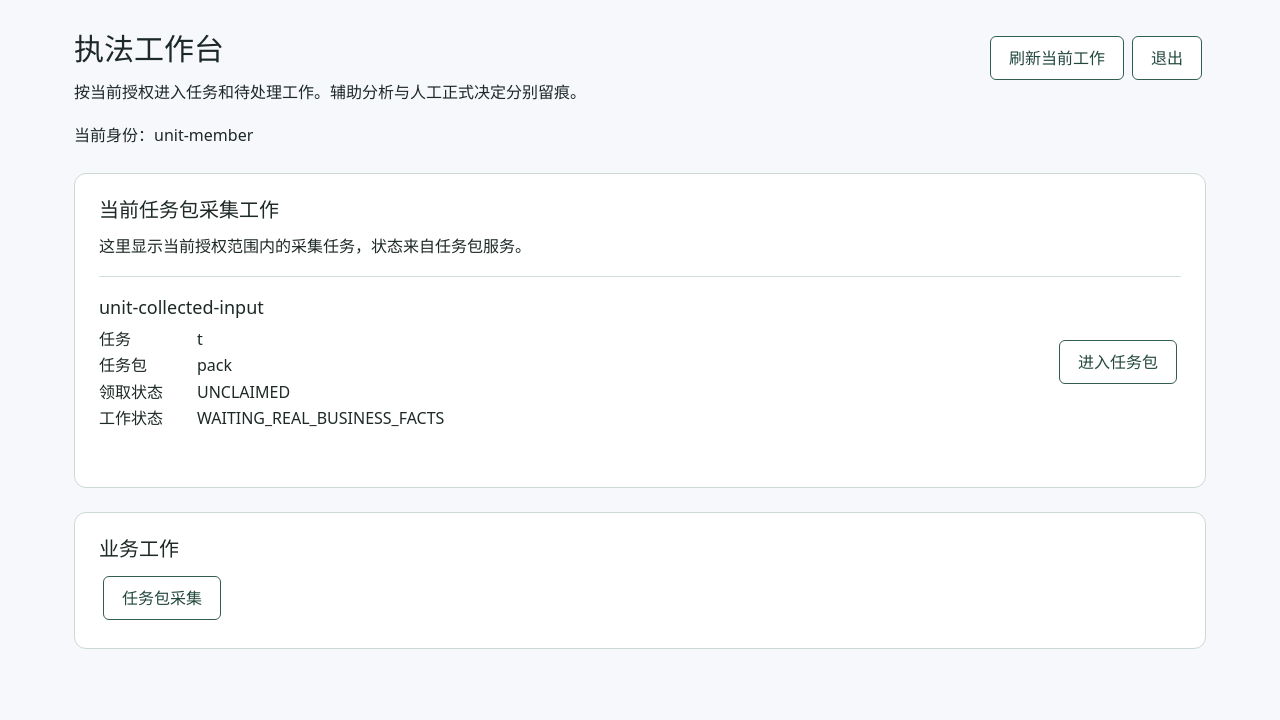
Test: revoked grants after initial display prevent navigation
This screenshot has width=1280, height=720.
Expected: the heading "unit-collected-input" is shown, [99,295,264,319]
Click the button "进入任务包".
click(1118, 362)  # box [1059,340,1177,384]
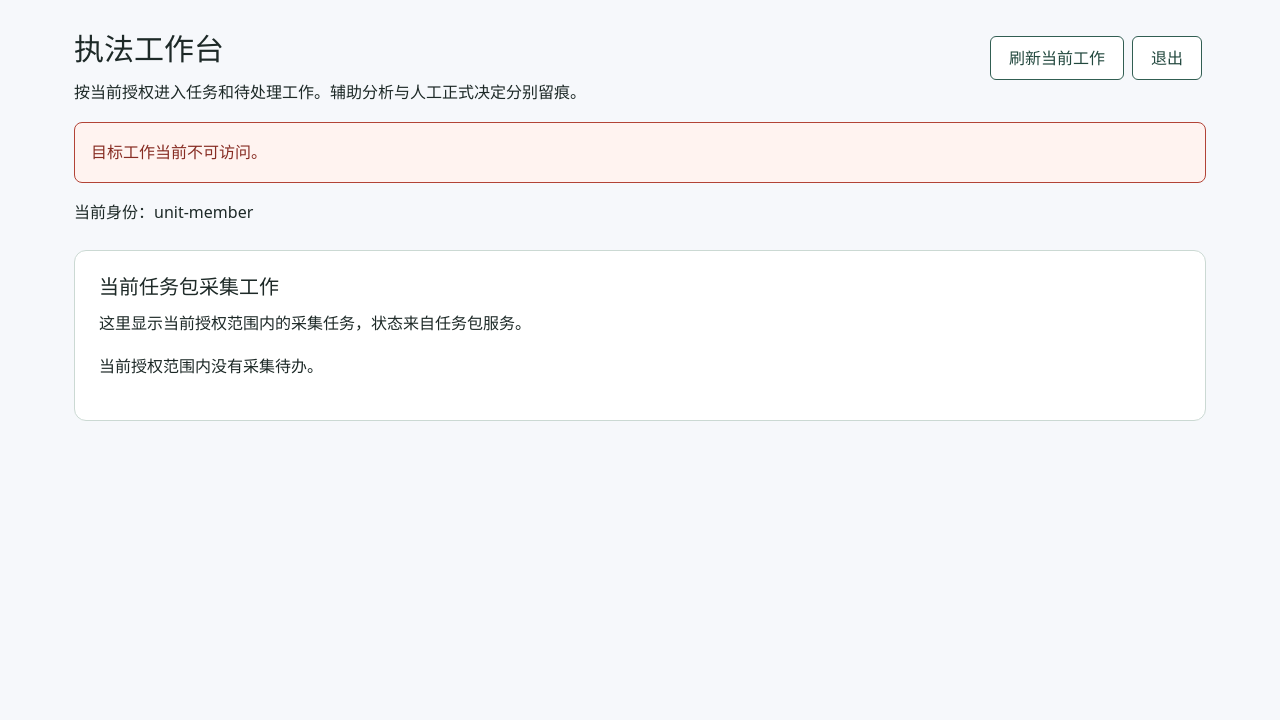
Now the message "目标工作当前不可访问。" is shown, box [74,122,1206,183]
Now the heading "unit-collected-input" is gone
